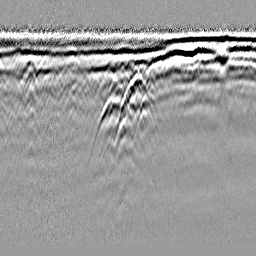cavity: (112, 71, 158, 148)
